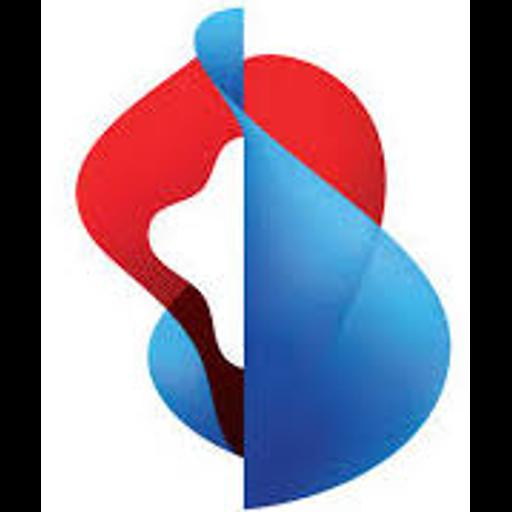Swisscom IT Services AG: (41, 0, 470, 512)
